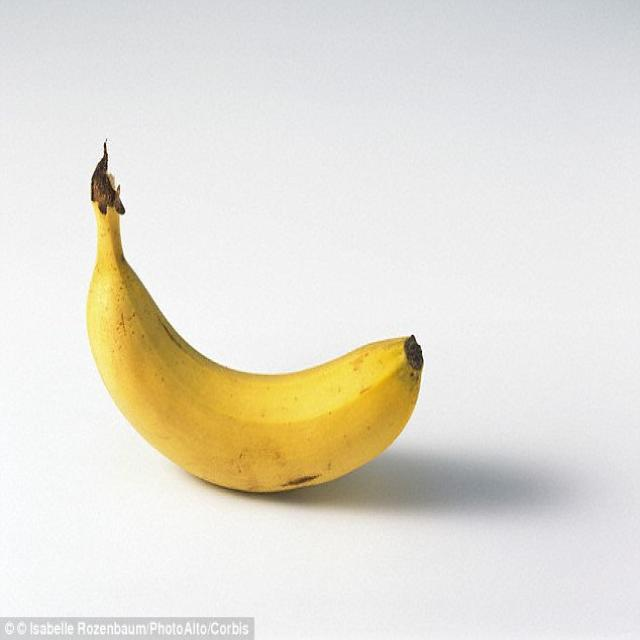Banana: (82, 166, 429, 501)
